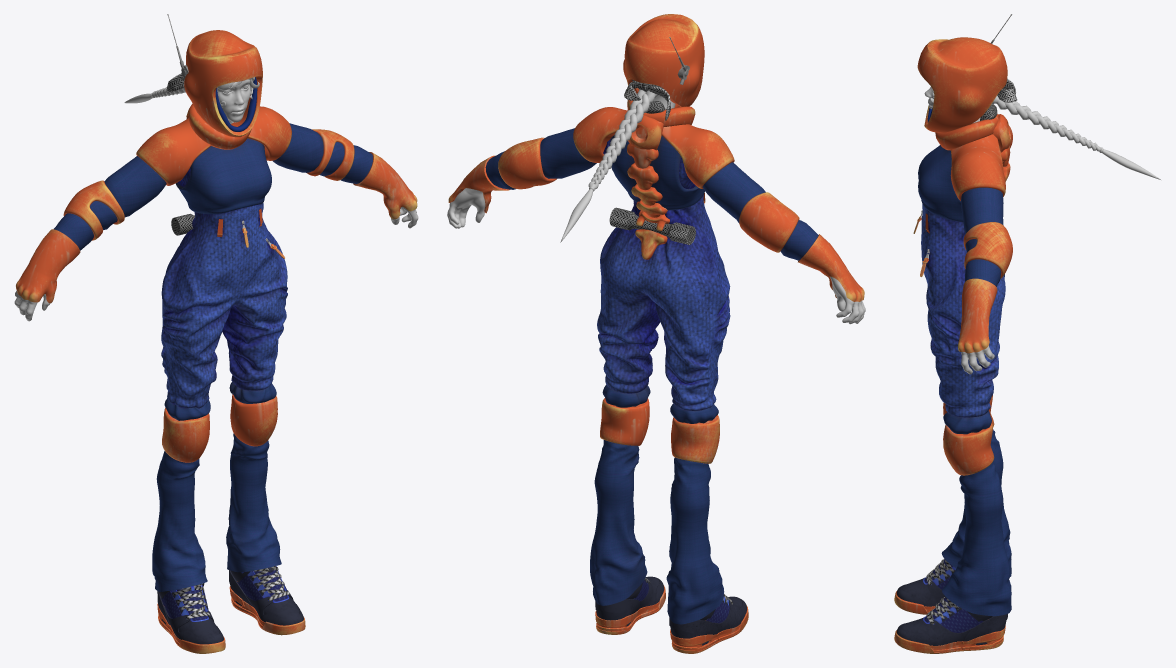
The model's file is gravmix.obj.
3 renders of one model, left to right at view 1: azimuth 30°, elevation 25°; view 2: azimuth 150°, elevation 25°; view 3: azimuth 270°, elevation 25°, orthographic. The views are drawn at different scales.
Visible parts, largest first — view 1: Retopo_top, Retopo_gravrushclothing.010, Retopo_gravrushclothing.009, Nike_Rev_Sky1_Nike_Rev_Sky1_0, helmet, BézierCurve.010, largerhands.002, BézierCurve.011, BézierCurve.013, Nike_Rev_Sky1_Nike_Rev_Sky1_0.001, Retopo_bettertrousers.001, head.001 (+1 smaller); view 2: Retopo_top, Retopo_gravrushclothing.010, helmet, BézierCurve.010, Retopo_gravrushclothing.009, Nike_Rev_Sky1_Nike_Rev_Sky1_0, BézierCurve.013, BézierCurve.011, largerhands.002, hairponytail, bodyresized.005, spine.001 (+3 smaller); view 3: Retopo_top, Retopo_gravrushclothing.010, helmet, Nike_Rev_Sky1_Nike_Rev_Sky1_0, BézierCurve.010, Retopo_gravrushclothing.009, largerhands.002, BézierCurve.011, BézierCurve.013, hairponytail, Retopo_bettertrousers.001, Nike_Rev_Sky1_Nike_Rev_Sky1_0.001 (+2 smaller).
Part boxes in pixels (x1=…): Retopo_top: x1=161, y1=138, x2=287, y2=408; Retopo_gravrushclothing.010: x1=152, y1=433, x2=281, y2=591; Retopo_gravrushclothing.009: x1=54, y1=123, x2=372, y2=250; Nike_Rev_Sky1_Nike_Rev_Sky1_0: x1=157, y1=566, x2=305, y2=653; helmet: x1=184, y1=30, x2=262, y2=137; BézierCurve.010: x1=136, y1=104, x2=291, y2=185; largerhands.002: x1=16, y1=152, x2=417, y2=303; BézierCurve.011: x1=162, y1=394, x2=277, y2=462; BézierCurve.013: x1=63, y1=129, x2=354, y2=240; Nike_Rev_Sky1_Nike_Rev_Sky1_0.001: x1=173, y1=566, x2=289, y2=619; Retopo_bettertrousers.001: x1=164, y1=381, x2=276, y2=420; head.001: x1=217, y1=79, x2=250, y2=123; Retopo_top: x1=597, y1=135, x2=730, y2=410; Retopo_gravrushclothing.010: x1=590, y1=440, x2=724, y2=624; helmet: x1=623, y1=14, x2=704, y2=107; BézierCurve.010: x1=573, y1=100, x2=734, y2=188; Retopo_gravrushclothing.009: x1=485, y1=128, x2=818, y2=260; Nike_Rev_Sky1_Nike_Rev_Sky1_0: x1=595, y1=576, x2=748, y2=653; BézierCurve.013: x1=498, y1=137, x2=799, y2=252; BézierCurve.011: x1=600, y1=398, x2=719, y2=463; largerhands.002: x1=448, y1=155, x2=864, y2=301; hairponytail: x1=560, y1=89, x2=659, y2=242; bodyresized.005: x1=447, y1=188, x2=865, y2=324; spine.001: x1=627, y1=143, x2=667, y2=217; Retopo_top: x1=918, y1=145, x2=1005, y2=417; Retopo_gravrushclothing.010: x1=941, y1=429, x2=1011, y2=616; helmet: x1=917, y1=37, x2=1007, y2=132; Nike_Rev_Sky1_Nike_Rev_Sky1_0: x1=894, y1=559, x2=1007, y2=653; BézierCurve.010: x1=935, y1=104, x2=1005, y2=200; Retopo_gravrushclothing.009: x1=961, y1=187, x2=1003, y2=286; largerhands.002: x1=958, y1=278, x2=997, y2=353; BézierCurve.011: x1=943, y1=395, x2=994, y2=475; BézierCurve.013: x1=963, y1=126, x2=1012, y2=278; hairponytail: x1=992, y1=95, x2=1160, y2=179; Retopo_bettertrousers.001: x1=943, y1=411, x2=991, y2=434; Nike_Rev_Sky1_Nike_Rev_Sky1_0.001: x1=926, y1=558, x2=958, y2=624.
Bounding box in the file's own units: 1.19 × 1.71 × 0.6953.
